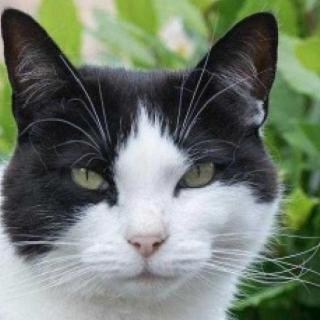cat: (0, 6, 285, 318)
nose: (122, 208, 167, 262)
